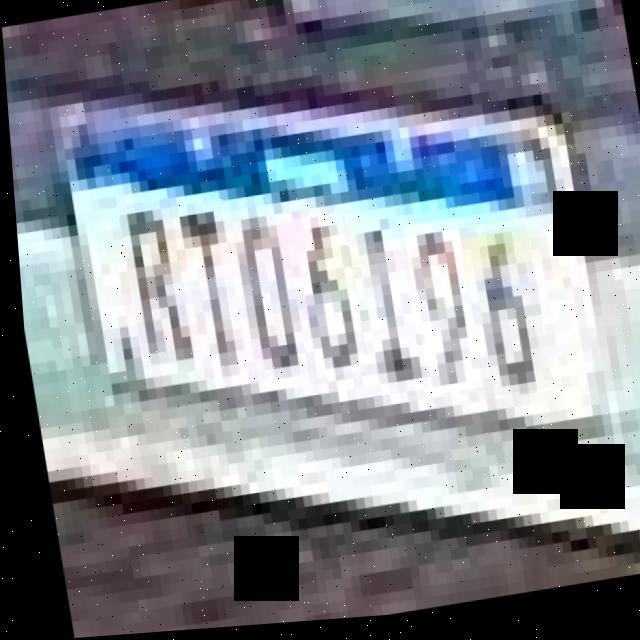5: (287, 215, 361, 385)
6: (463, 231, 546, 404)
9: (398, 222, 477, 402)
I: (347, 218, 422, 392)
O: (226, 216, 302, 383)
R: (114, 200, 190, 372)
T: (167, 200, 243, 372)
